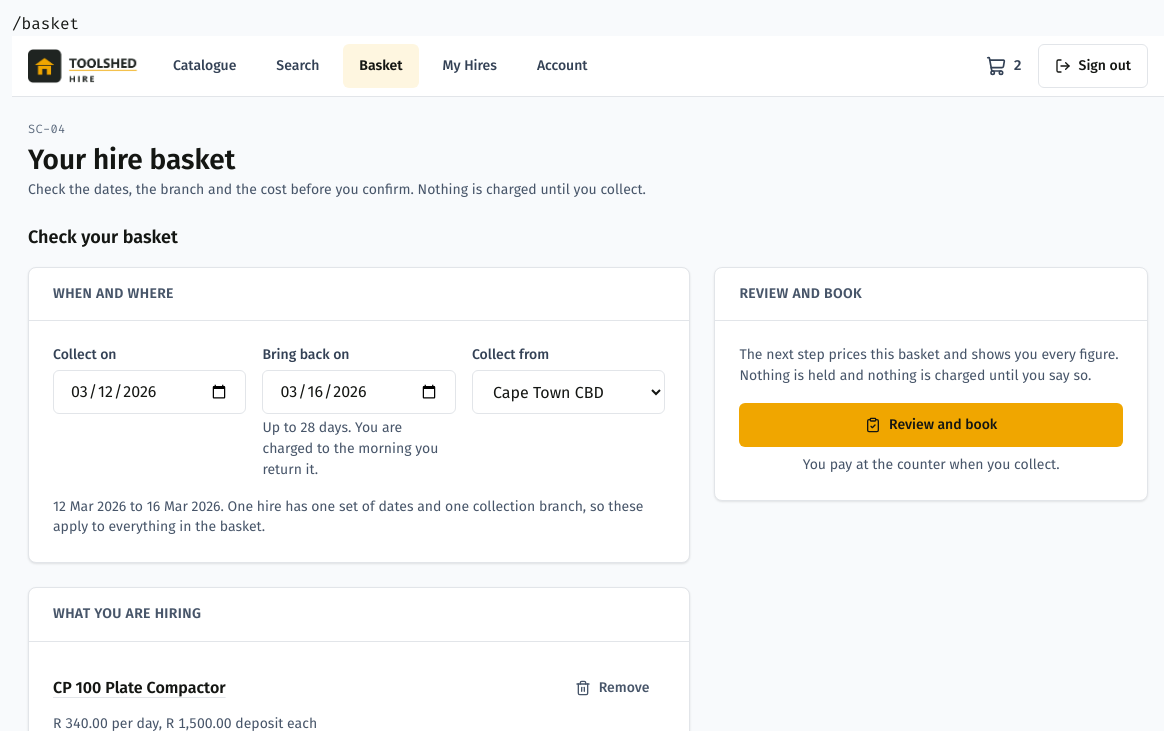
Test case: giving a hold up to change the basket › stays on the hold and says so when the release fails
The width and height of the screenshot is (1164, 731).
Click the button "Review and book" at (931,425), box [739, 403, 1123, 447]
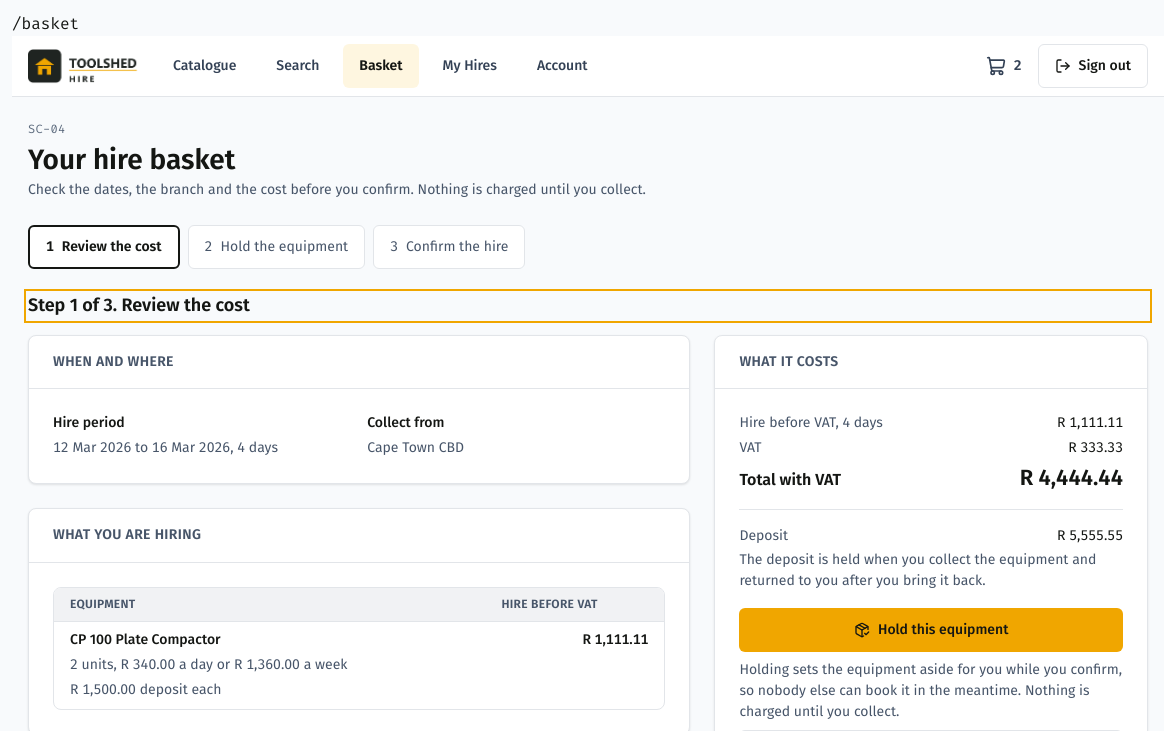
Click the button "Hold this equipment" at (931,630), box [739, 608, 1123, 652]
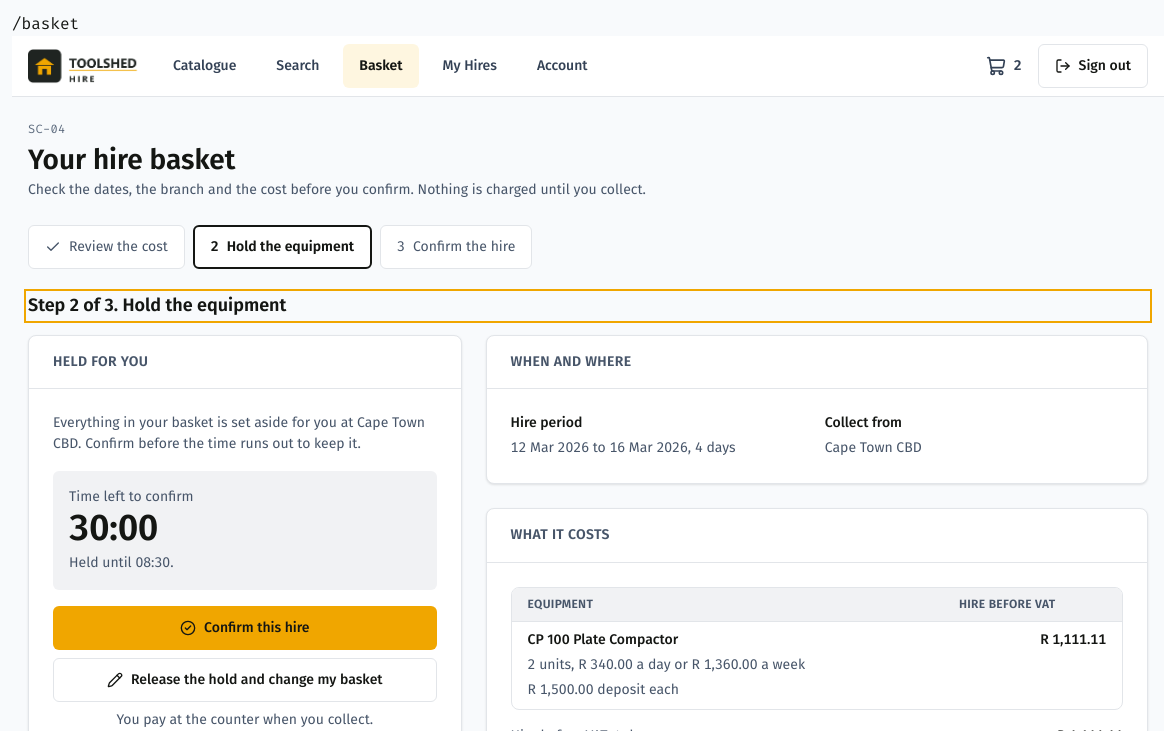
Click the button "Release the hold and change my basket" at (245,680), box [53, 658, 437, 702]
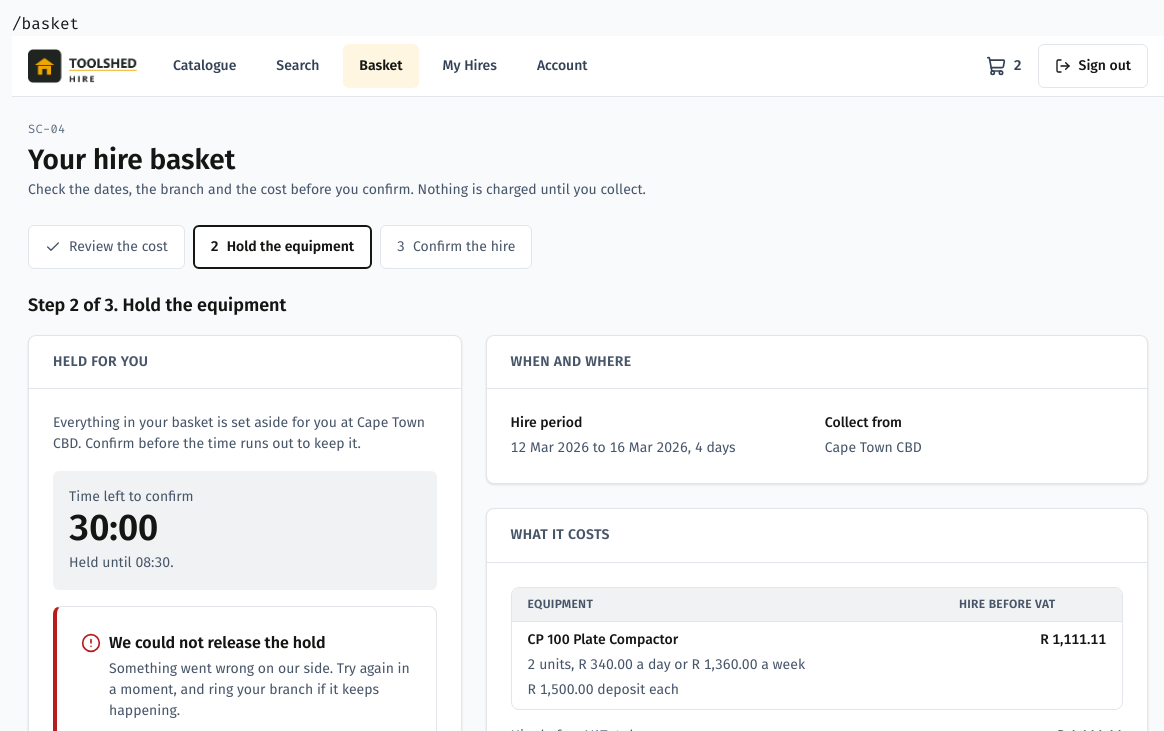
Now the heading "Step 2 of 3. Hold the equipment" is shown, box [28, 294, 286, 316]
Now the message shows "We could not release the hold", box [109, 633, 326, 652]
